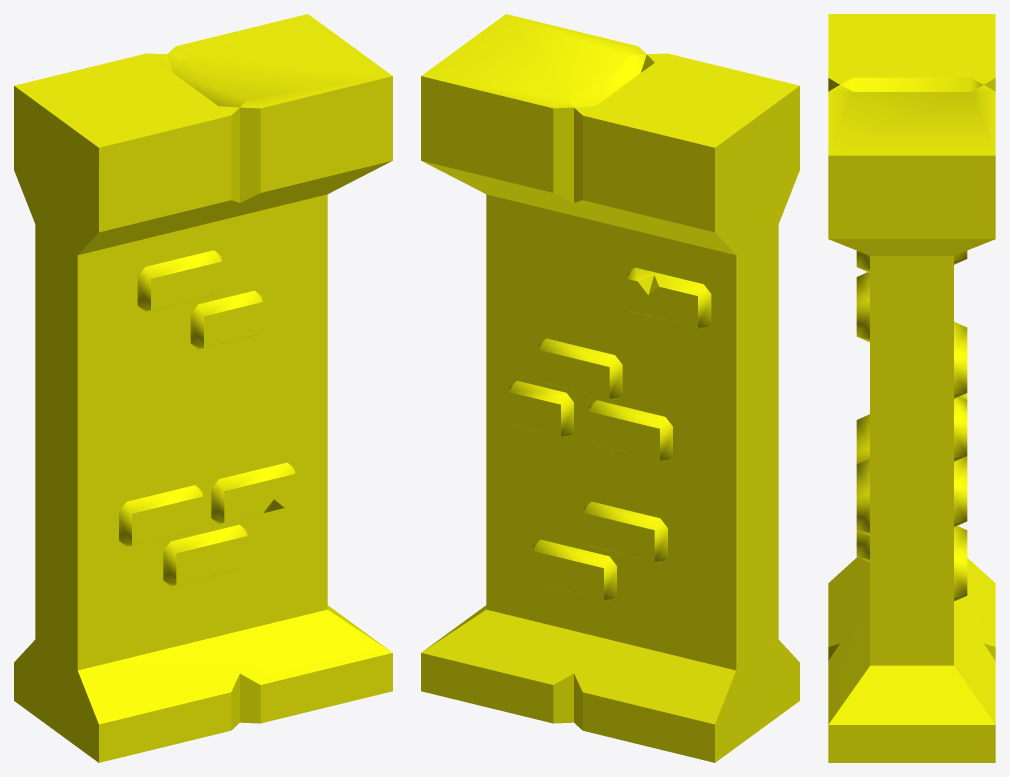
Rendered from kaykit-wall-half-endcap.glb.
3 views of the same model, side by side, from view 1: azimuth 30°, elevation 25°; view 2: azimuth 150°, elevation 25°; view 3: azimuth 270°, elevation 25° (orthographic).
Visible parts, largest first — view 1: wall_half_endcap; view 2: wall_half_endcap; view 3: wall_half_endcap.
Part boxes in pixels (box(x1,y1,x2,y2)): wall_half_endcap: box(14, 14, 392, 762); wall_half_endcap: box(421, 14, 799, 762); wall_half_endcap: box(828, 14, 995, 762).
Size of the model in its own units: 2 by 4 by 1.
